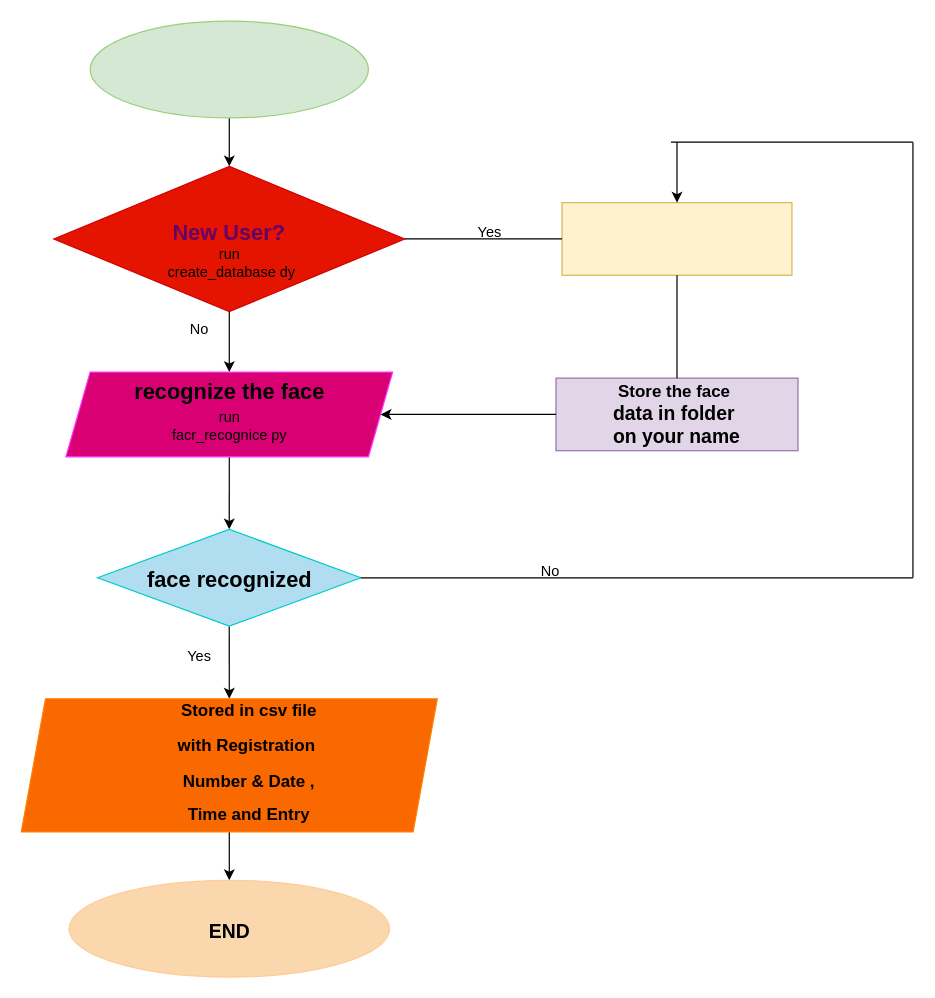
Image size: 935x998. Some labels were removed from this diagram. Here are the shapes that lost their labels. From the top down, the centre of each, then its label:
[228,69]: START
[676,238]: Give your photograph
